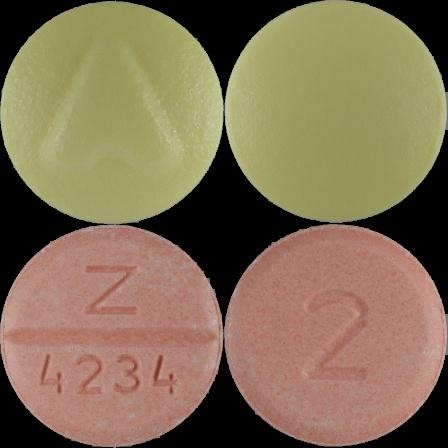35356-900: (0, 0, 224, 224)
